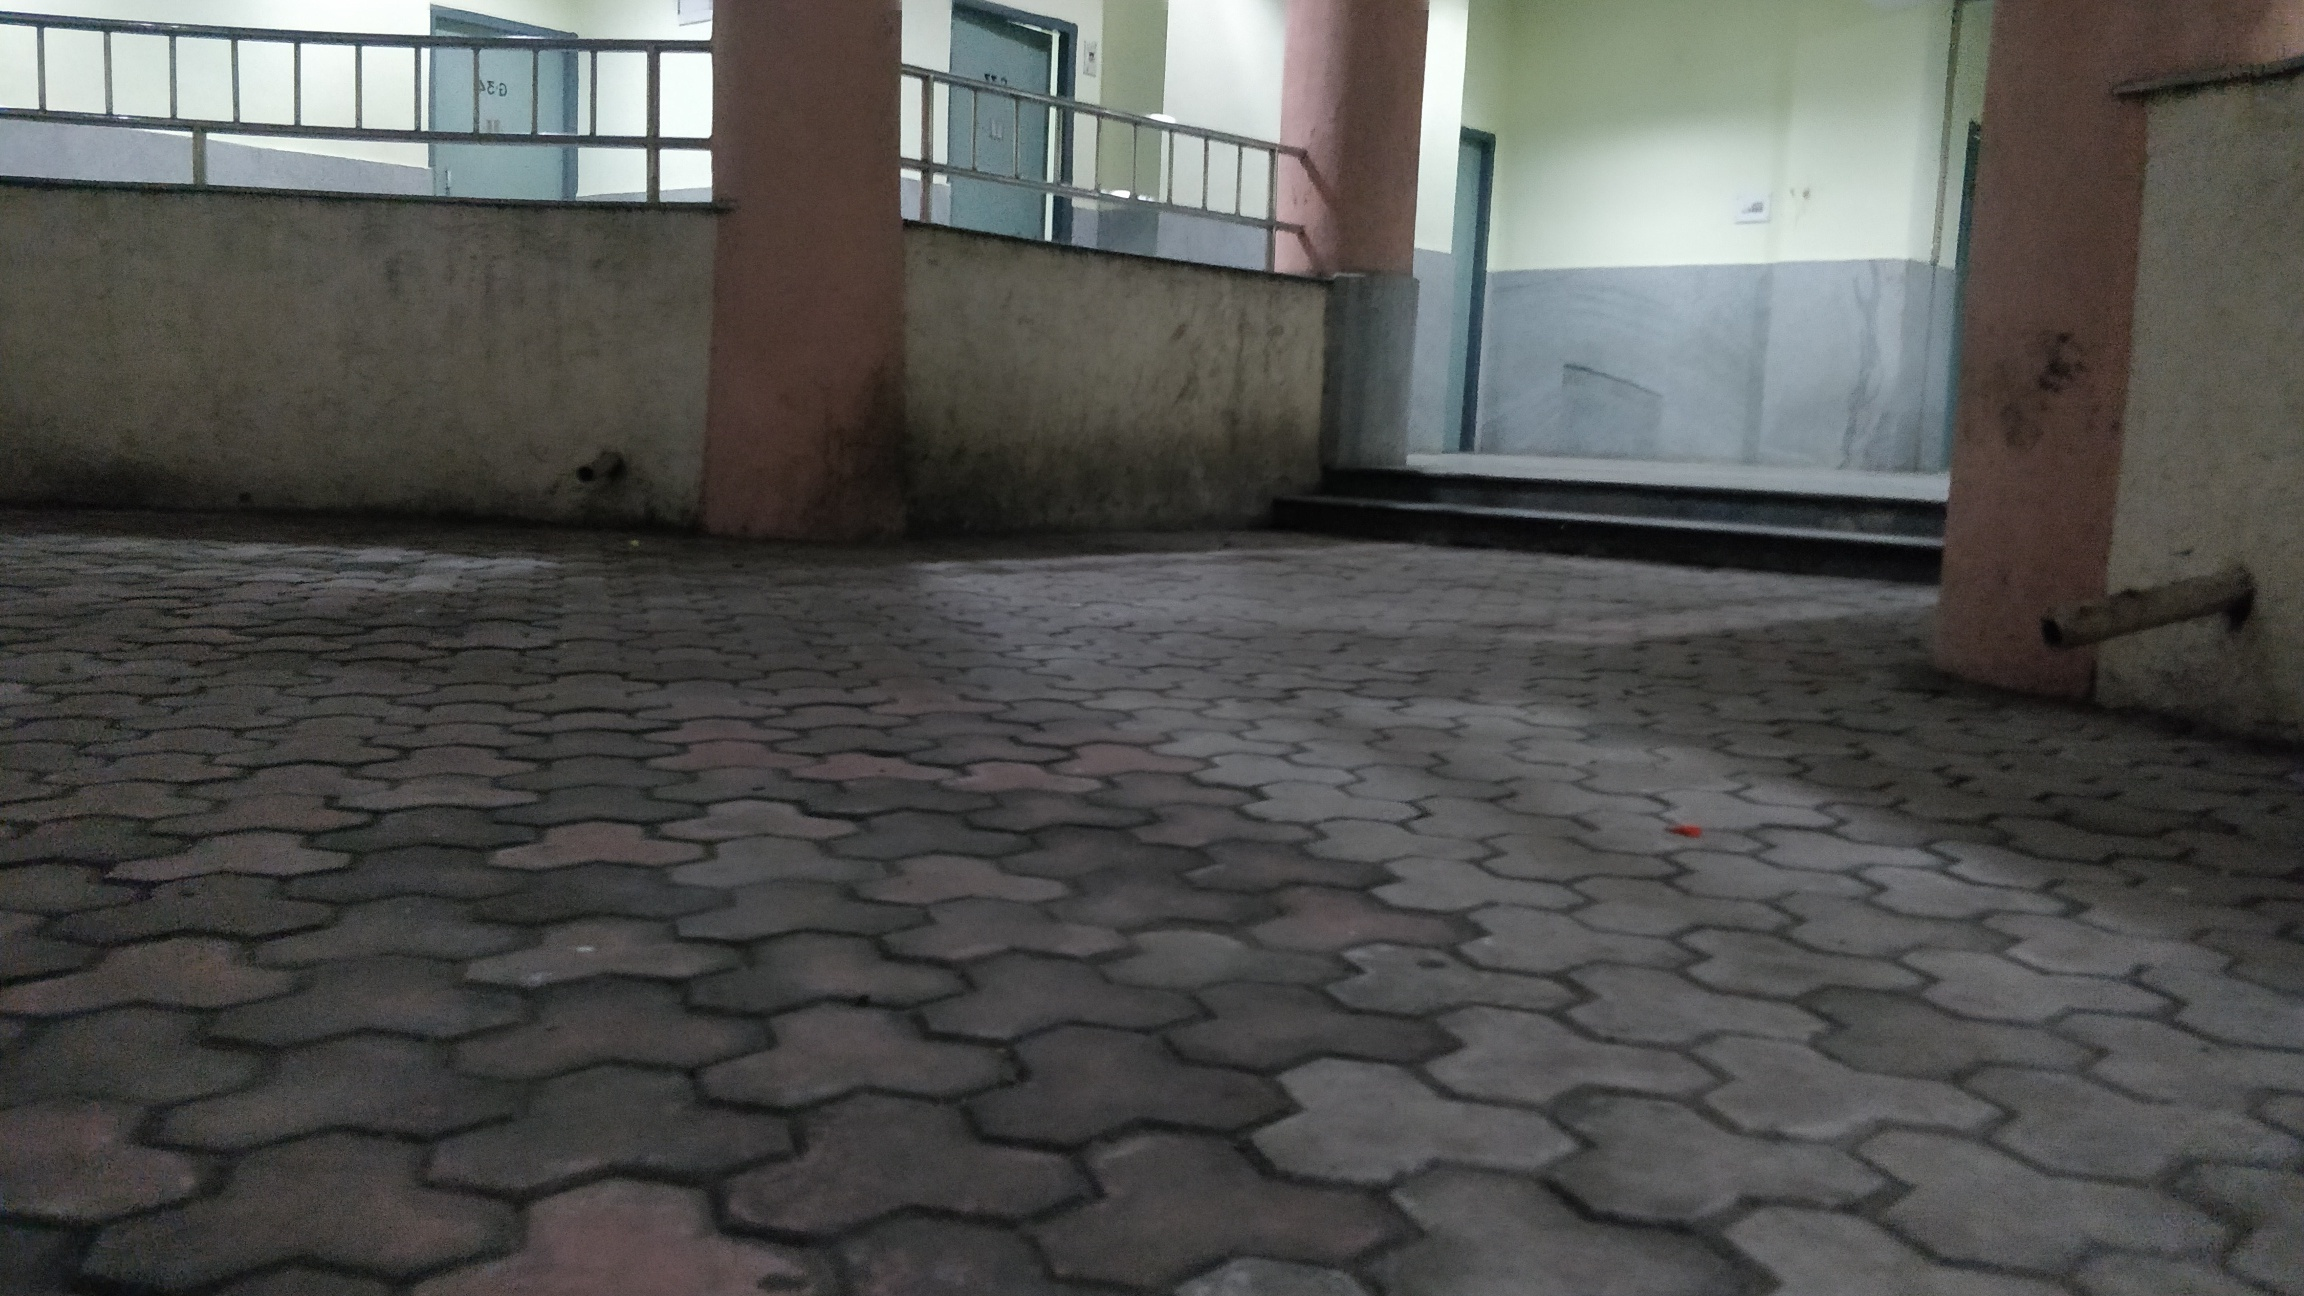stairs_up: (1272, 478, 1959, 548)
